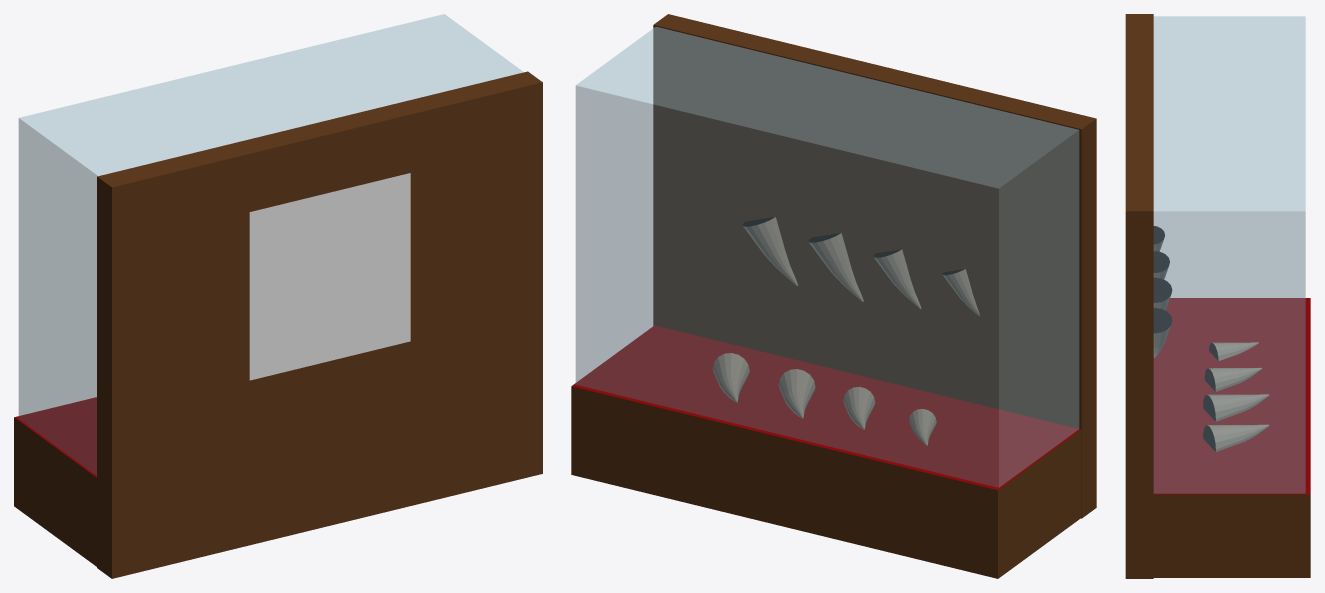
Rendered from montre_drikkehorn.gltf.
The picture shows the model from 3 angles, left to right: view 1: azimuth 30°, elevation 25°; view 2: azimuth 150°, elevation 25°; view 3: azimuth 270°, elevation 25°; orthographic projection. The views are drawn at different scales.
Parts seen in each view (by area): view 1: Cube.001, glass.001, snap, Cube.006; view 2: glass.001, Cube.001, Cube.006, Cylinder.006, Cylinder.007, Cylinder.001, Cylinder, Cylinder.005, Cylinder.002, Cylinder.004, Cylinder.003; view 3: glass.001, Cube.006, Cube.001, Cylinder.001, Cylinder, Cylinder.002, Cylinder.007, Cylinder.003, Cylinder.006, Cylinder.005.
Boxes of the visible parts, x1=… form: Cube.001: x1=97, y1=71, x2=542, y2=578; glass.001: x1=18, y1=14, x2=523, y2=475; snap: x1=249, y1=173, x2=410, y2=380; Cube.006: x1=14, y1=397, x2=96, y2=566; glass.001: x1=575, y1=26, x2=1079, y2=487; Cube.001: x1=653, y1=14, x2=1096, y2=518; Cube.006: x1=571, y1=325, x2=1081, y2=578; Cylinder.006: x1=808, y1=233, x2=863, y2=301; Cylinder.007: x1=743, y1=217, x2=797, y2=285; Cylinder.001: x1=778, y1=369, x2=815, y2=418; Cylinder: x1=713, y1=353, x2=749, y2=402; Cylinder.005: x1=873, y1=249, x2=921, y2=308; Cylinder.002: x1=843, y1=387, x2=875, y2=429; Cylinder.004: x1=942, y1=269, x2=979, y2=315; Cylinder.003: x1=909, y1=409, x2=936, y2=445; glass.001: x1=1153, y1=16, x2=1305, y2=493; Cube.006: x1=1153, y1=298, x2=1310, y2=577; Cube.001: x1=1125, y1=14, x2=1153, y2=578; Cylinder.001: x1=1203, y1=394, x2=1269, y2=421; Cylinder: x1=1203, y1=424, x2=1269, y2=451; Cylinder.002: x1=1204, y1=368, x2=1261, y2=391; Cylinder.007: x1=1153, y1=308, x2=1172, y2=357; Cylinder.003: x1=1209, y1=342, x2=1258, y2=360; Cylinder.006: x1=1153, y1=277, x2=1172, y2=310; Cylinder.005: x1=1153, y1=251, x2=1169, y2=279.
Bounding box in the file's own units: 5.35 × 4.65 × 2.13.
